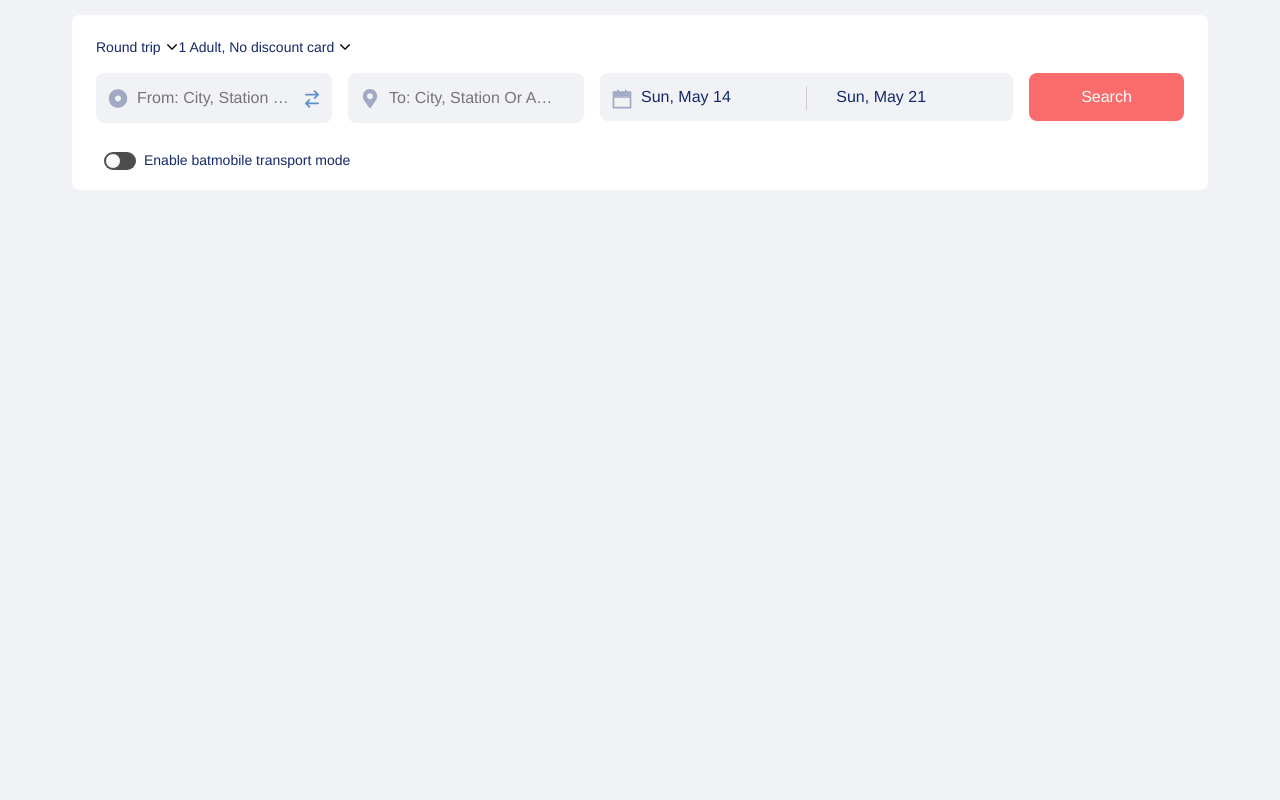
Test case: Searchbar Params › should close params when clicked outside
What coordinates should you click on to do the following:
click the button "1 Adult, No discount card"
I would click on:
 (264, 47)
Its box is x1=179 y1=39 x2=350 y2=55.
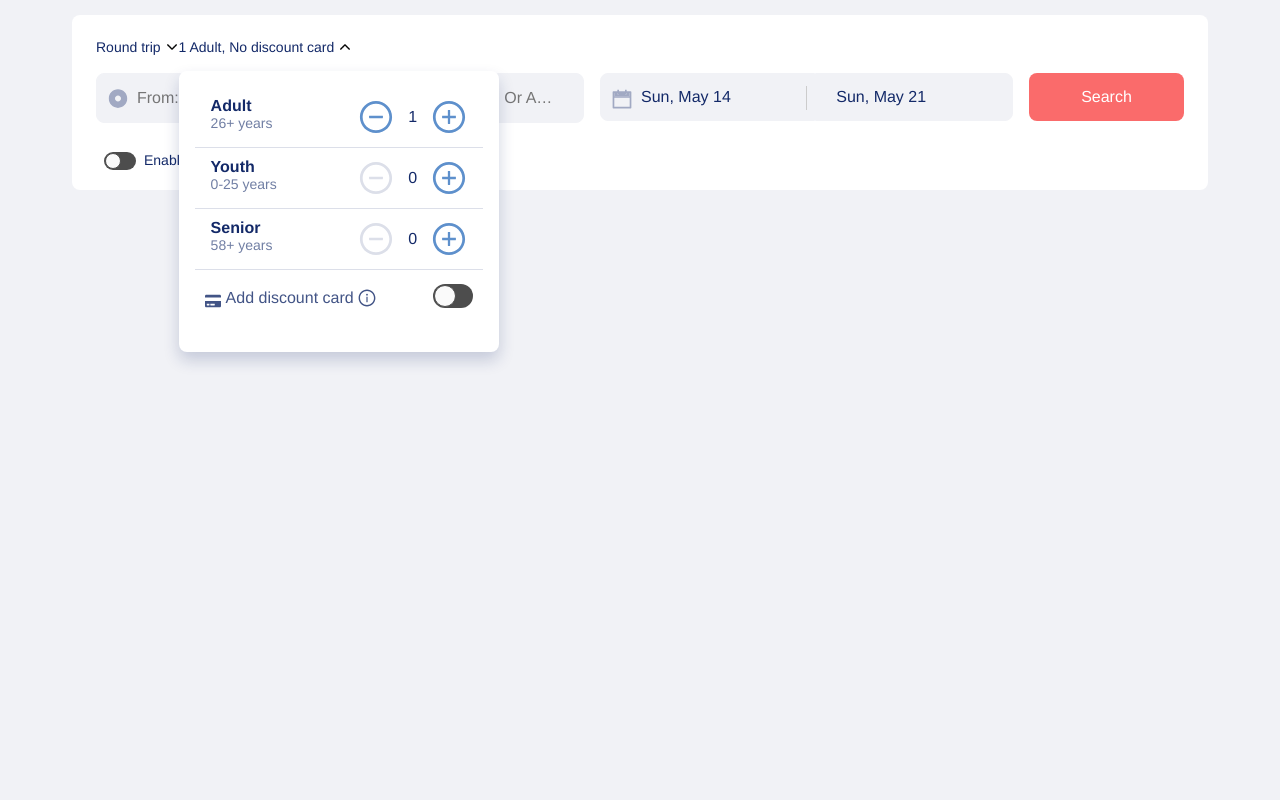
What coordinates should you click on to do the following:
click the element with test id "passenger-blocker"
I would click on:
 (640, 400)
Its box is x1=0 y1=0 x2=1279 y2=799.
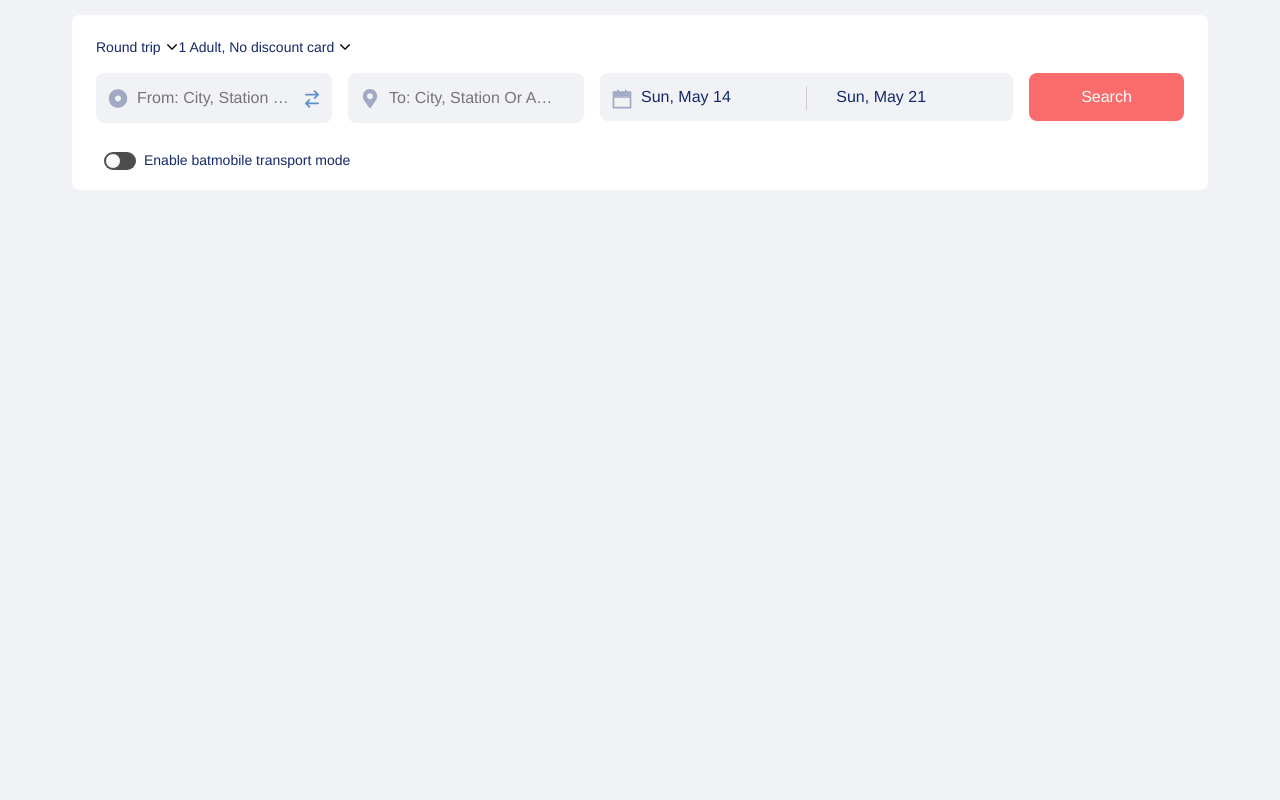
Result: the text with alt text "Youth" is gone
